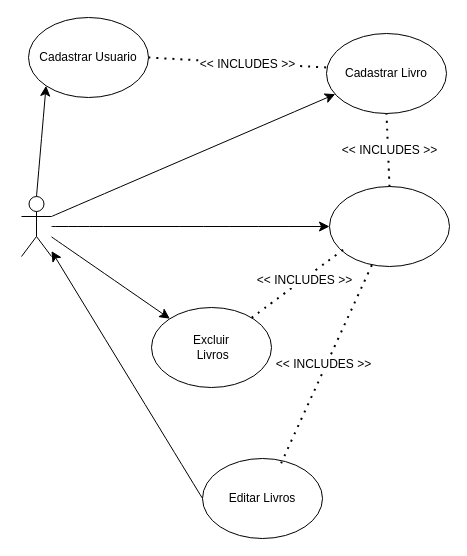
Image size: 467x556. Some labels were removed from this diagram. The shapes that lost their labels are listed below. From the top down, each one's centre as x and y in pixels, then its label:
(36,226): usuario
(389,226): Visualizar Livros
